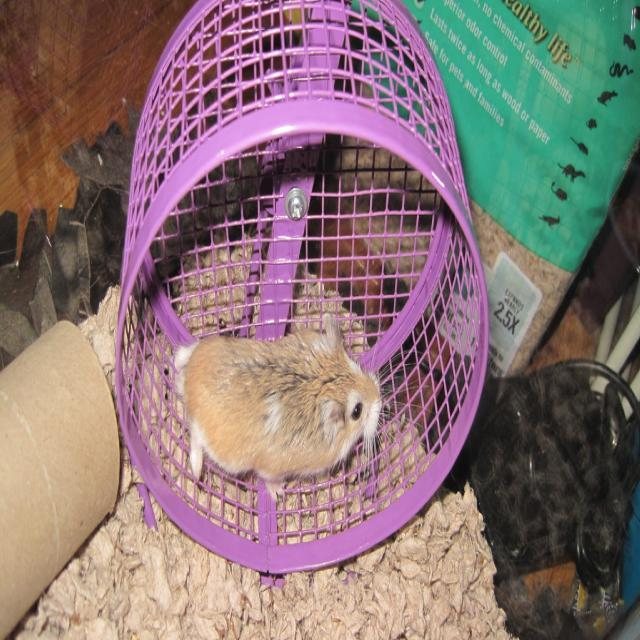rat: (174, 310, 430, 490)
